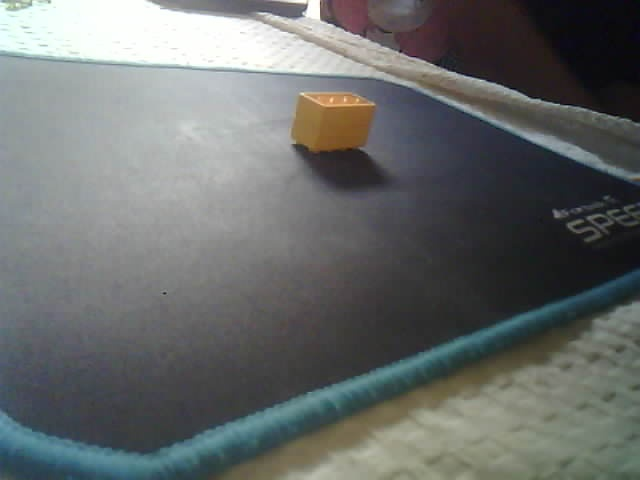lego: (291, 90, 376, 154)
